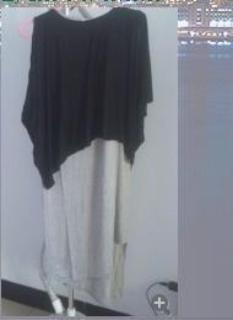vest: (41, 8, 133, 309)
vest dress: (20, 9, 154, 189)
